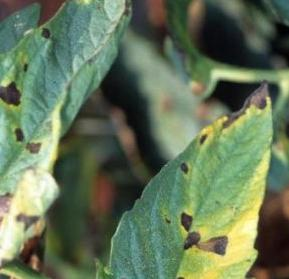Tomato Early blight leaf: (0, 0, 136, 274), (85, 102, 289, 279)
